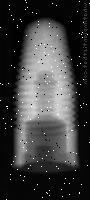Implant Direct: (12, 16, 80, 173)
